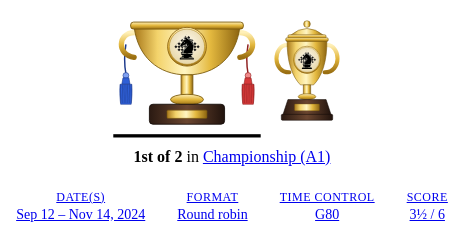
Test: MemberHighlightsComponent › with podium finishes › should move the light to the next trophy selected
Click the 2nd button with class "trophy" at [307, 74], box [270,16,344,132]
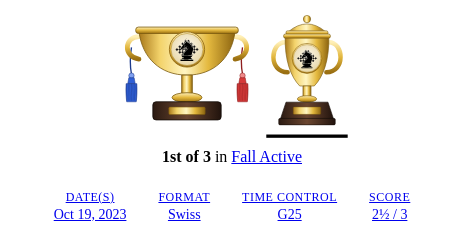
Click the 1st button with class "trophy" at [187, 77], box [120,22,254,132]
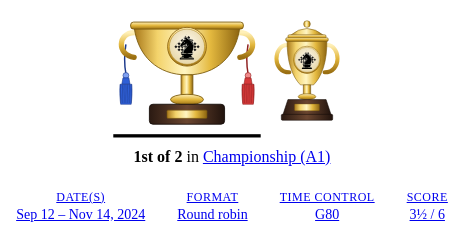
Expected: the element with class "details__heading" reads "1st of 2 in Championship (A1)", [134,148,330,166]
